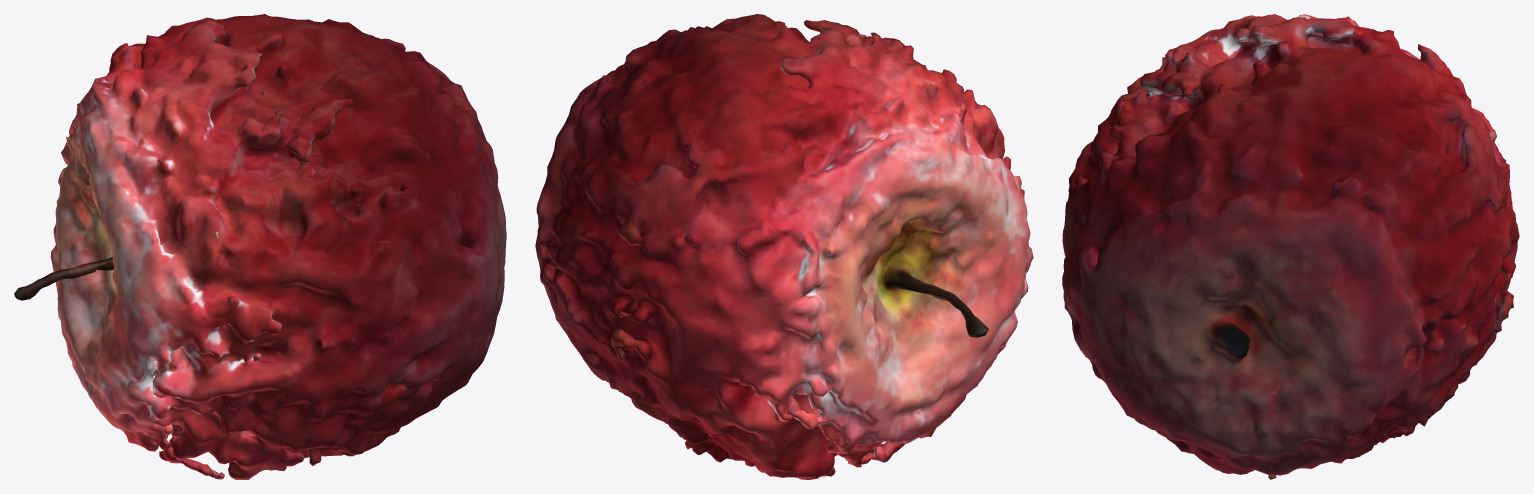
The model's file is red_apple.obj.
3 views of the same model, side by side, from view 1: azimuth 30°, elevation 25°; view 2: azimuth 150°, elevation 25°; view 3: azimuth 270°, elevation 25° (orthographic).
Parts seen in each view (by area): view 1: mesh; view 2: mesh; view 3: mesh.
Boxes of the visible parts, bbox=[...] form: mesh: bbox=[14, 14, 506, 479]; mesh: bbox=[535, 14, 1033, 479]; mesh: bbox=[1062, 14, 1519, 479].
Size of the model in its own units: 0.0916 by 0.0834 by 0.0848.
